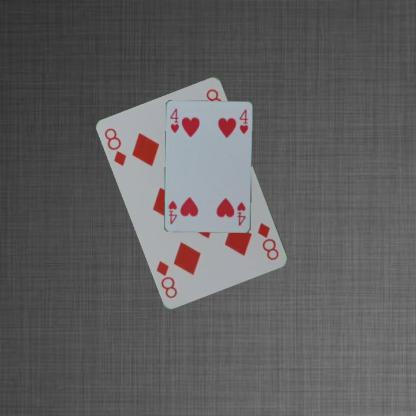4h: (168, 106, 180, 135), (235, 199, 246, 227)
8d: (102, 126, 128, 168), (255, 220, 280, 262)
